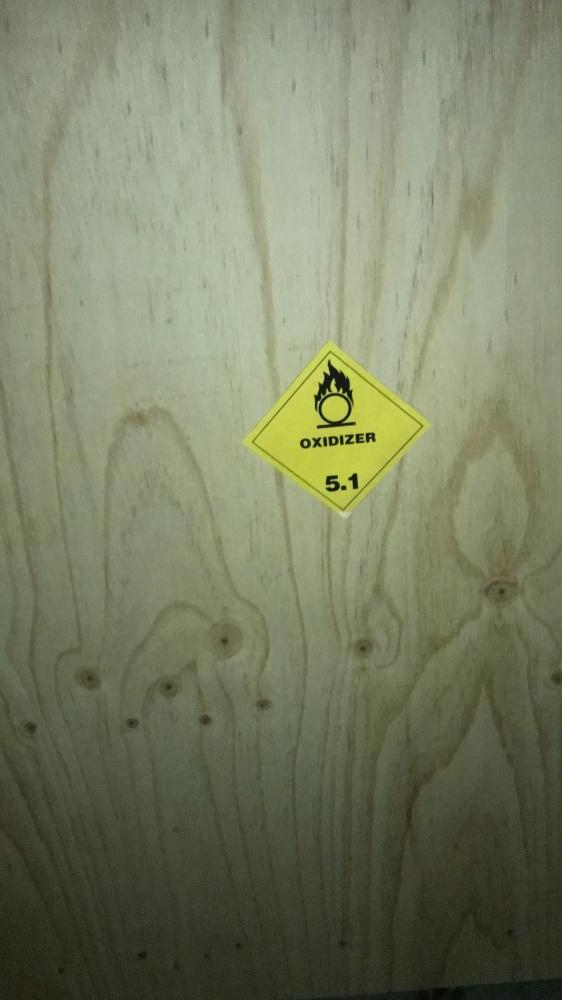oxidizer: (241, 336, 431, 519)
